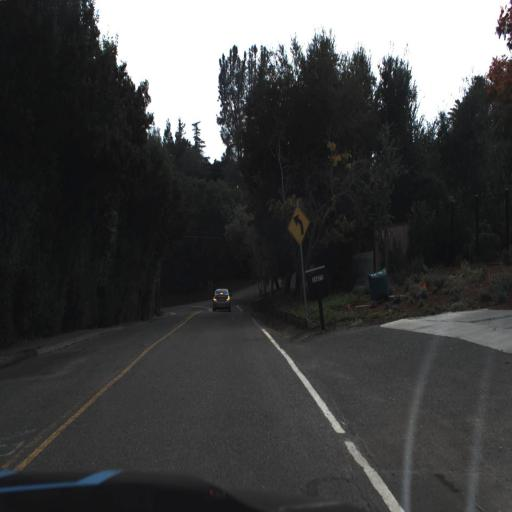car: (204, 284, 237, 318)
